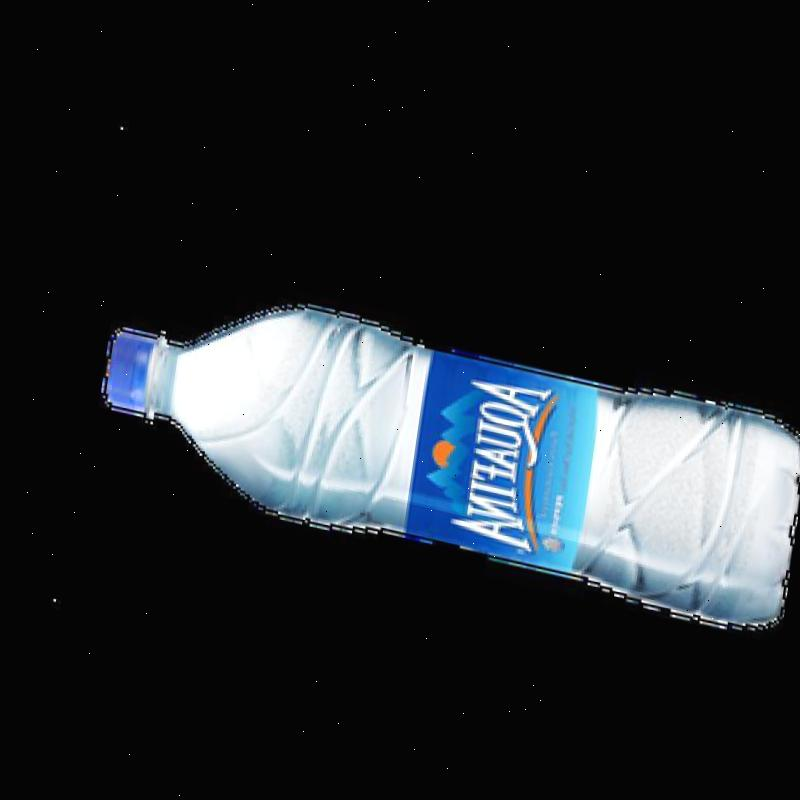botella: (85, 254, 800, 627)
